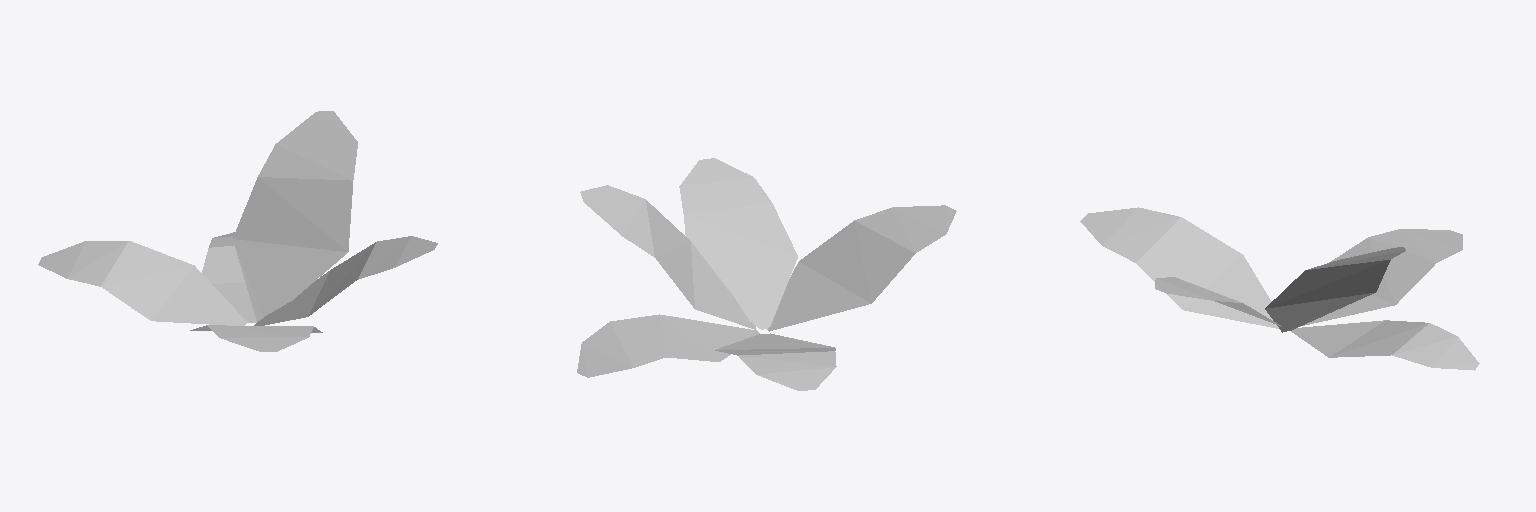
File: fern 02_lod2.obj
The picture shows the model from 3 angles: view 1: azimuth 30°, elevation 25°; view 2: azimuth 150°, elevation 25°; view 3: azimuth 270°, elevation 25°; orthographic projection.
Parts seen in each view (by area): view 1: tree; view 2: tree; view 3: tree.
Boxes of the visible parts, box(x1,y1,x2,y2) form: tree: box(38, 111, 437, 351); tree: box(577, 158, 956, 390); tree: box(1080, 207, 1479, 370).
Bounding box in the file's own units: 99.15 × 51.54 × 129.